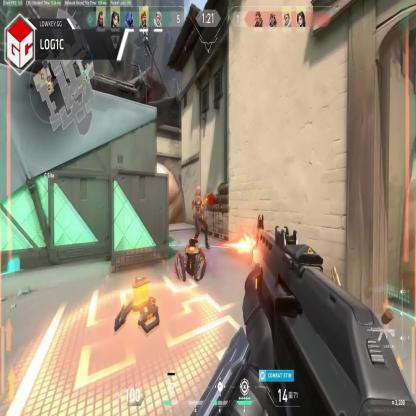enemy: (192, 184, 210, 250)
enemy_head: (196, 186, 201, 198)
